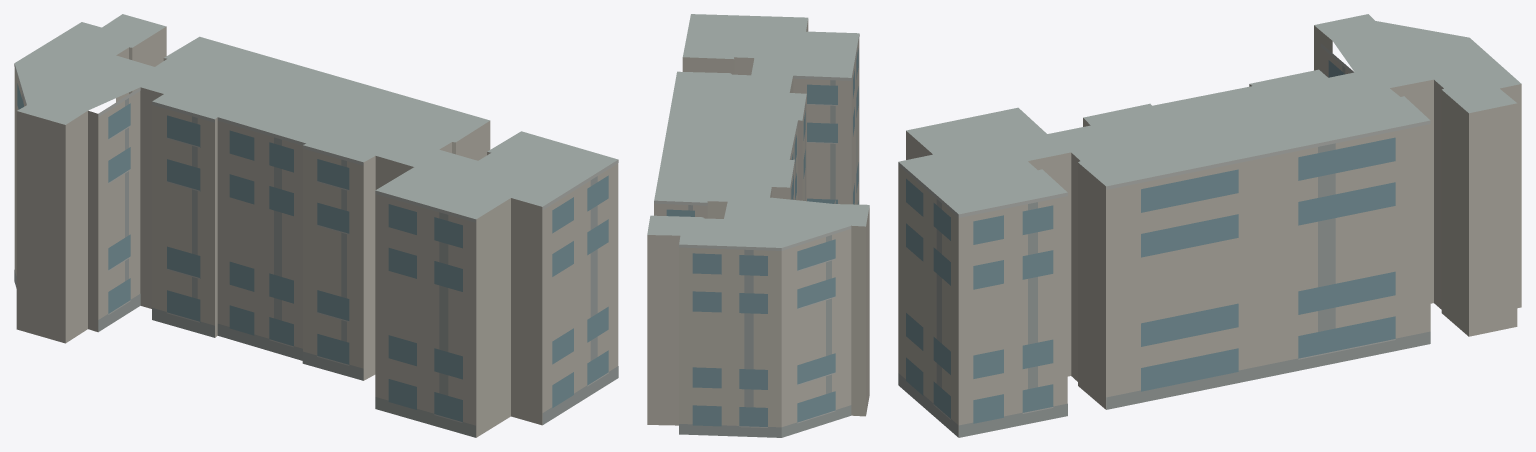
The model's file is survey-upis-32857262.glb.
3 views of the same model, side by side, from view 1: azimuth 30°, elevation 25°; view 2: azimuth 150°, elevation 25°; view 3: azimuth 270°, elevation 25° (orthographic). The views are drawn at different scales.
Parts seen in each view (by area): view 1: survey-upis-32857262.tmp; view 2: survey-upis-32857262.tmp; view 3: survey-upis-32857262.tmp.
Part boxes in pixels (bbox=[...]): survey-upis-32857262.tmp: bbox=[14, 14, 618, 437]; survey-upis-32857262.tmp: bbox=[647, 14, 869, 437]; survey-upis-32857262.tmp: bbox=[898, 14, 1521, 437].
Size of the model in its own units: 29.33 by 15.25 by 38.55.
